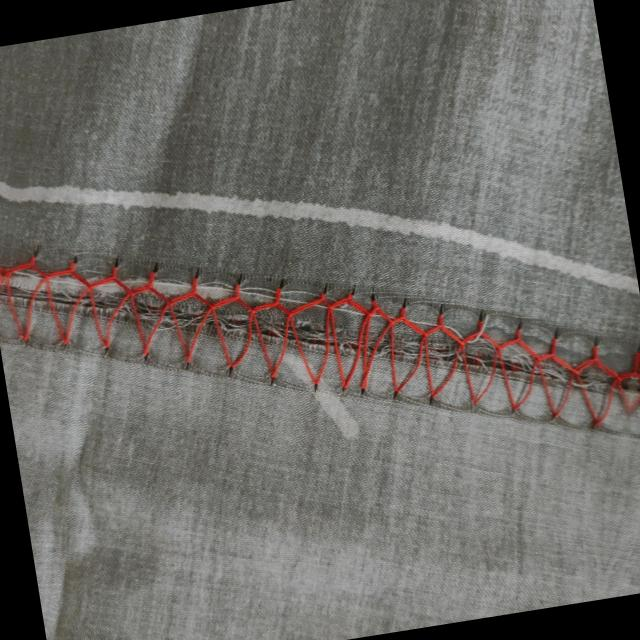gray stitch: (302, 241, 640, 491), (0, 209, 313, 430)
